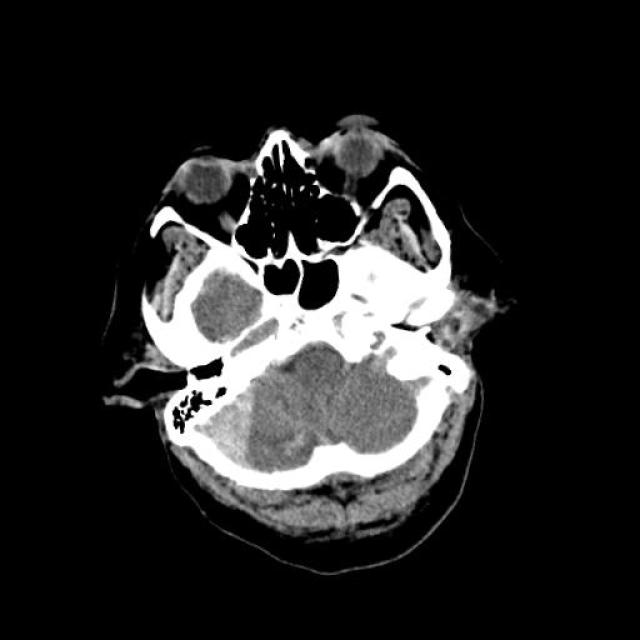Subdural: (135, 360, 313, 480)
